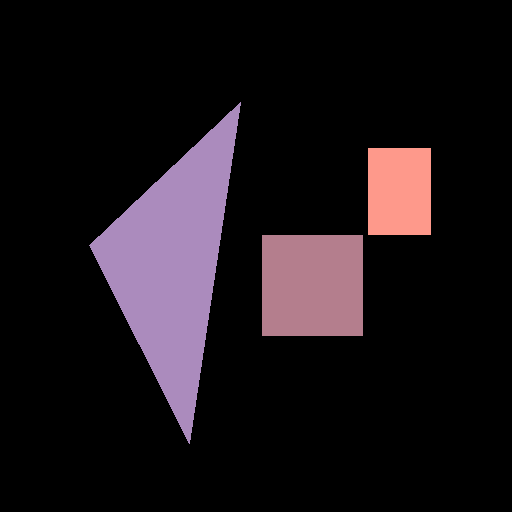rectangle: (368, 148, 430, 234)
square: (262, 235, 362, 335)
triangle: (89, 102, 240, 443)
